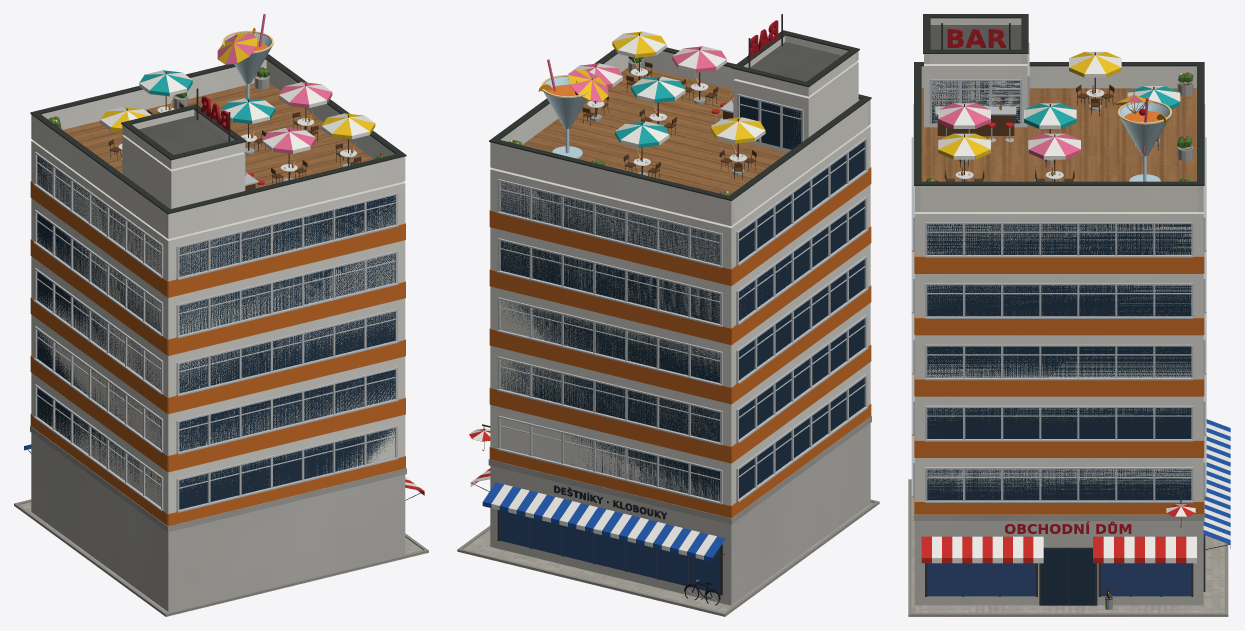
Rendered from dum_1e_obchody_vysoke.glb.
The picture shows the model from 3 angles, left to right: view 1: azimuth 30°, elevation 25°; view 2: azimuth 150°, elevation 25°; view 3: azimuth 270°, elevation 25°; orthographic projection. The views are drawn at different scales.
Parts seen in each view (by area): view 1: dlazba; view 2: dlazba; view 3: dlazba.
Part boxes in pixels (x1,y1,x2,y2): dlazba: (14,14,428,616); dlazba: (457,14,879,616); dlazba: (908,14,1230,616).
Size of the model in its own units: 14.61 by 24.38 by 14.27.
Materials: 1 (1 with a texture image).
